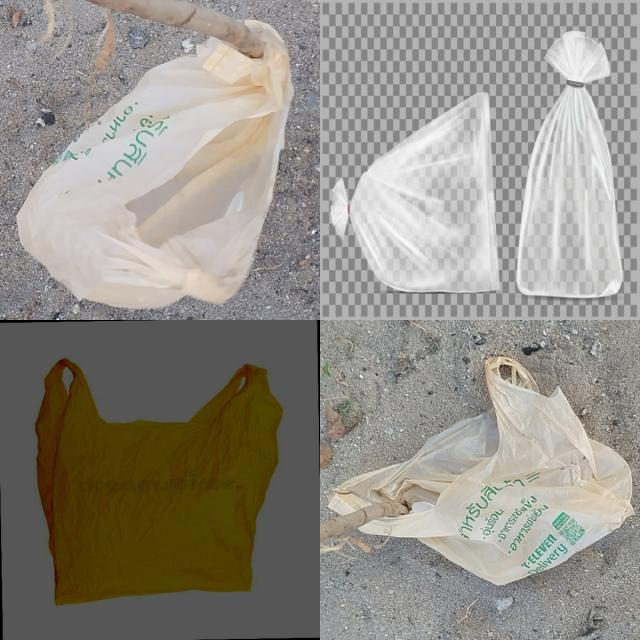Single-layer Plastic: (18, 21, 294, 308), (329, 356, 632, 585), (36, 359, 282, 605), (331, 92, 499, 292), (516, 31, 622, 298)
